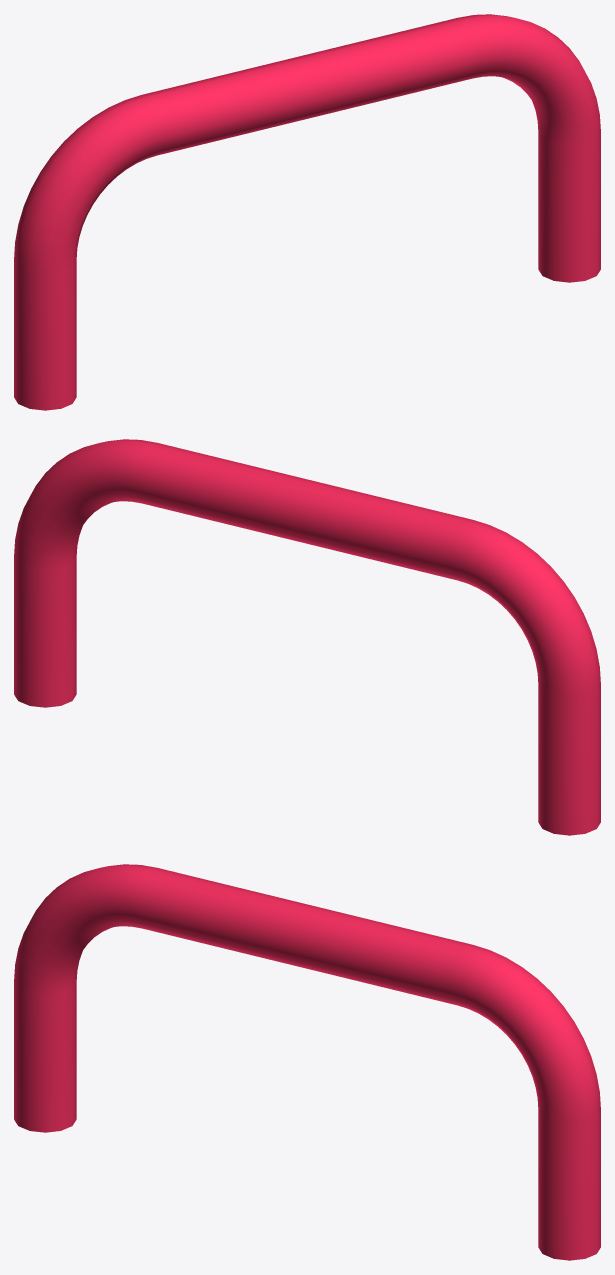
Rendered from gateSmallWide_teamRed-col.glb.
3 renders of one model, top to bottom at view 1: azimuth 30°, elevation 25°; view 2: azimuth 150°, elevation 25°; view 3: azimuth 330°, elevation 25°, orthographic.
Visible parts, largest first — view 1: gateSmallWide_teamRed-col; view 2: gateSmallWide_teamRed-col; view 3: gateSmallWide_teamRed-col.
Part boxes in pixels (box(x1,y1,x2,y2)): gateSmallWide_teamRed-col: box(14, 14, 600, 410); gateSmallWide_teamRed-col: box(14, 439, 600, 835); gateSmallWide_teamRed-col: box(14, 864, 600, 1260).
Size of the model in its own units: 4.4 by 2 by 0.4126.
